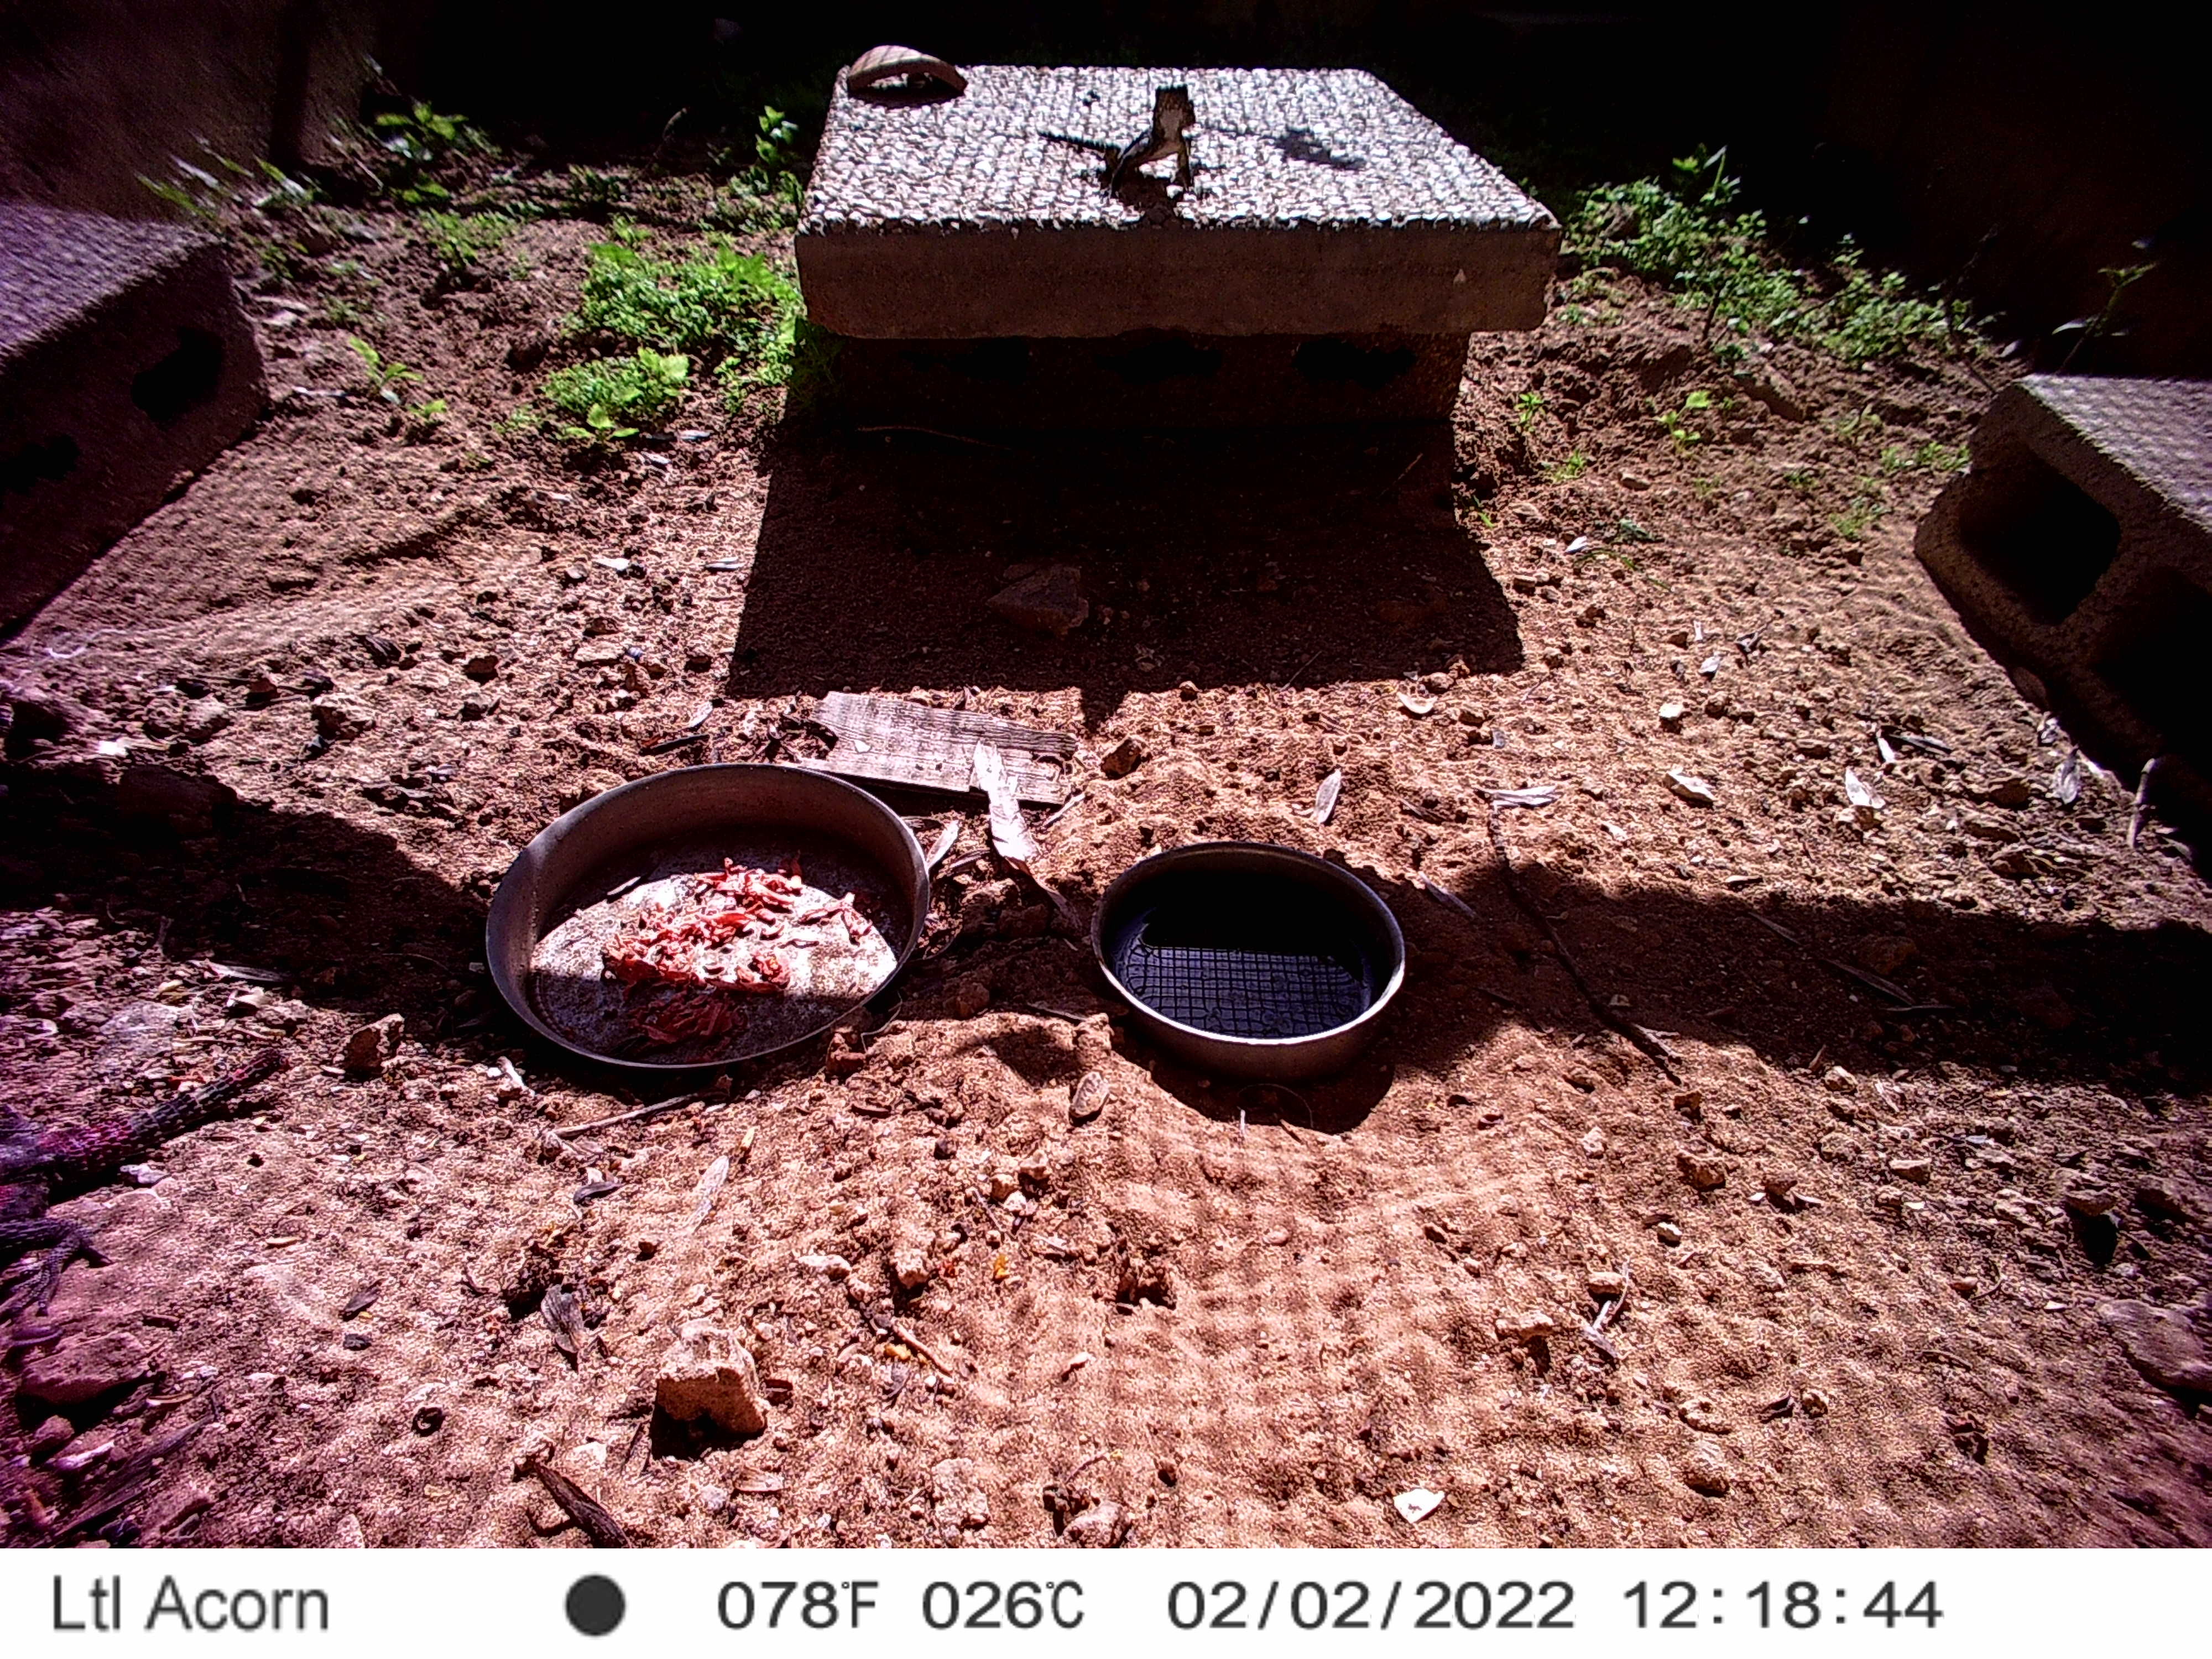lizard: (871, 582, 996, 678), (977, 636, 1061, 706), (1484, 613, 1595, 664)
